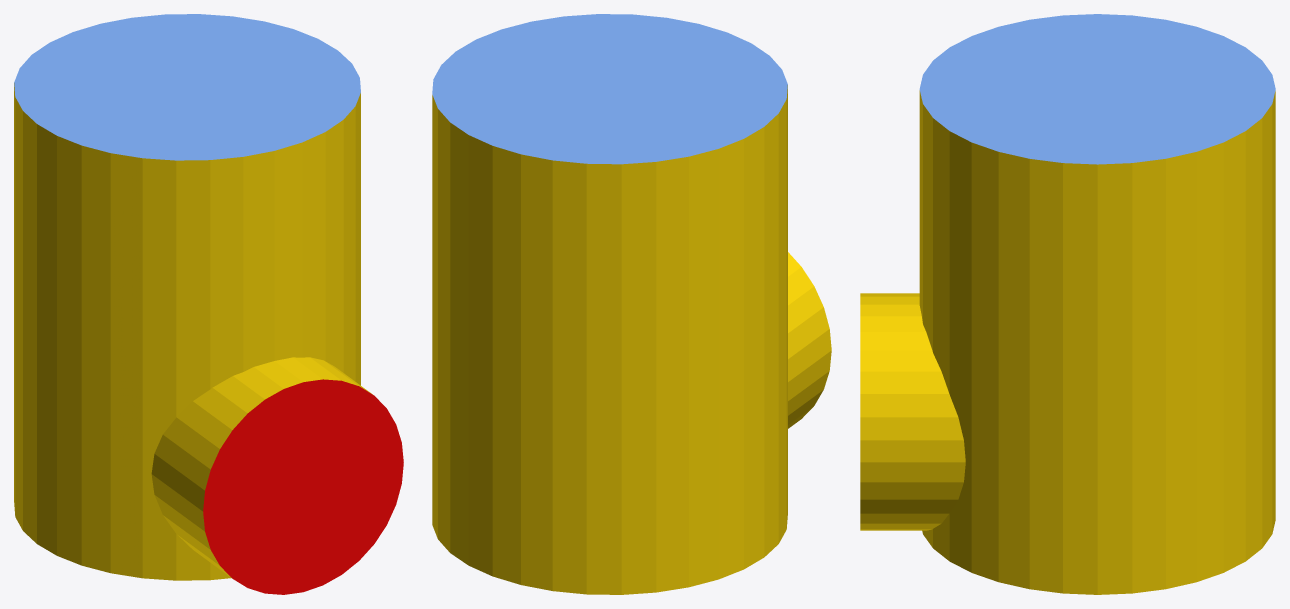
Rendered from placeholder.obj.
The picture shows the model from 3 angles, left to right: view 1: azimuth 30°, elevation 25°; view 2: azimuth 150°, elevation 25°; view 3: azimuth 270°, elevation 25°; orthographic projection. The views are drawn at different scales.
Parts seen in each view (by area): view 1: Cylinder; view 2: Cylinder; view 3: Cylinder.
Part boxes in pixels (x1,y1,x2,y2): Cylinder: [14, 14, 403, 594]; Cylinder: [432, 14, 831, 594]; Cylinder: [860, 14, 1275, 594].
Bounding box in the file's own units: 6 × 8 × 7.
